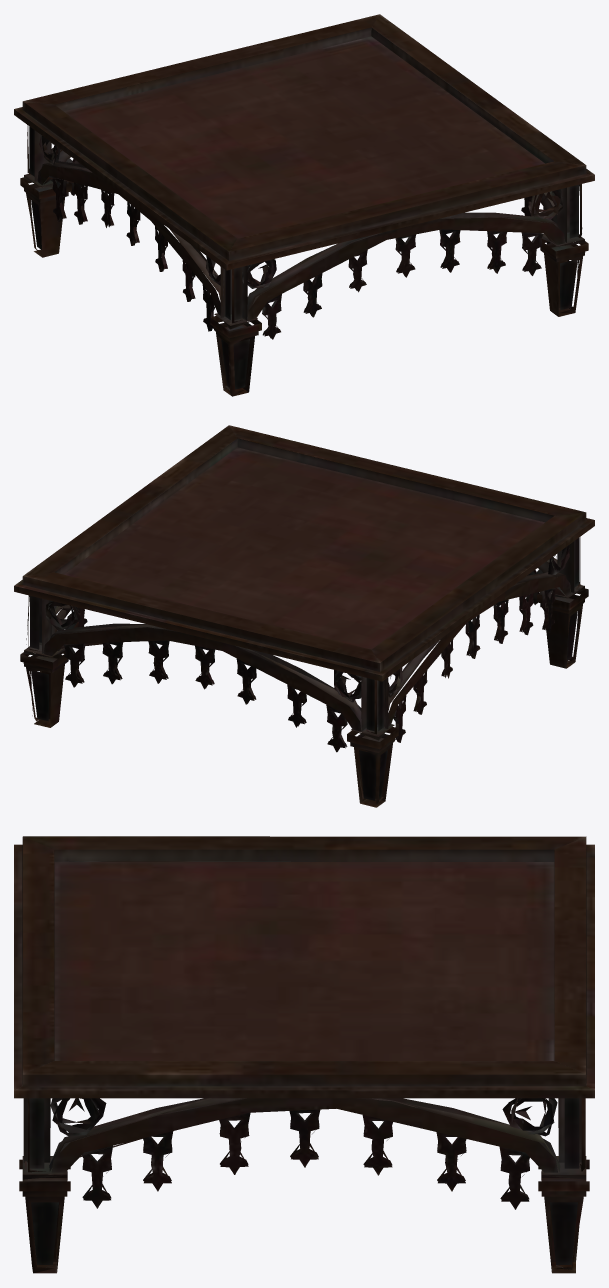
Rendered from gothic_coffee_table.glb.
3 renders of one model, top to bottom at view 1: azimuth 30°, elevation 25°; view 2: azimuth 150°, elevation 25°; view 3: azimuth 270°, elevation 25°, orthographic. The views are drawn at different scales.
Parts seen in each view (by area): view 1: gothic_coffee_table; view 2: gothic_coffee_table; view 3: gothic_coffee_table.
Boxes of the visible parts, box(x1,y1,x2,y2) form: gothic_coffee_table: box(14, 14, 594, 396); gothic_coffee_table: box(14, 425, 594, 807); gothic_coffee_table: box(14, 836, 594, 1273).
Bounding box in the file's own units: 1.44 × 0.5577 × 1.44.
Materials: 1 (1 with a texture image).
